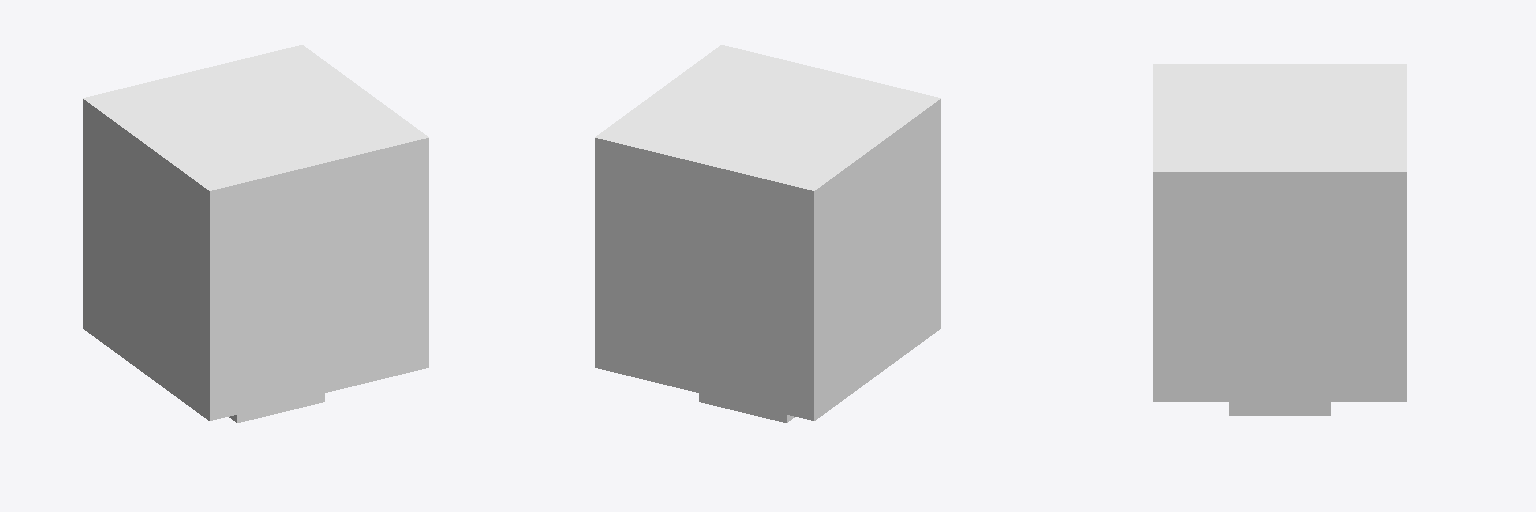
The model's file is tree_small.obj.
The picture shows the model from 3 angles: view 1: azimuth 30°, elevation 25°; view 2: azimuth 150°, elevation 25°; view 3: azimuth 270°, elevation 25°; orthographic projection.
Visible parts, largest first — view 1: object 1; view 2: object 1; view 3: object 1.
Boxes of the visible parts, x1=… form: object 1: x1=83, y1=45, x2=428, y2=422; object 1: x1=595, y1=45, x2=940, y2=422; object 1: x1=1153, y1=64, x2=1406, y2=415.
Bounding box in the file's own units: 1 × 1.2 × 1.